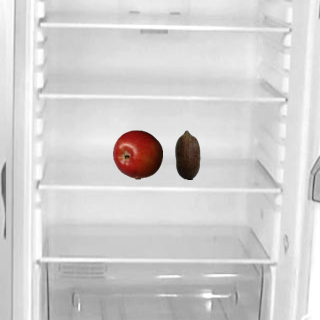Apple Braeburn: (112, 129, 162, 179)
Nut Pecan: (162, 129, 212, 179)
